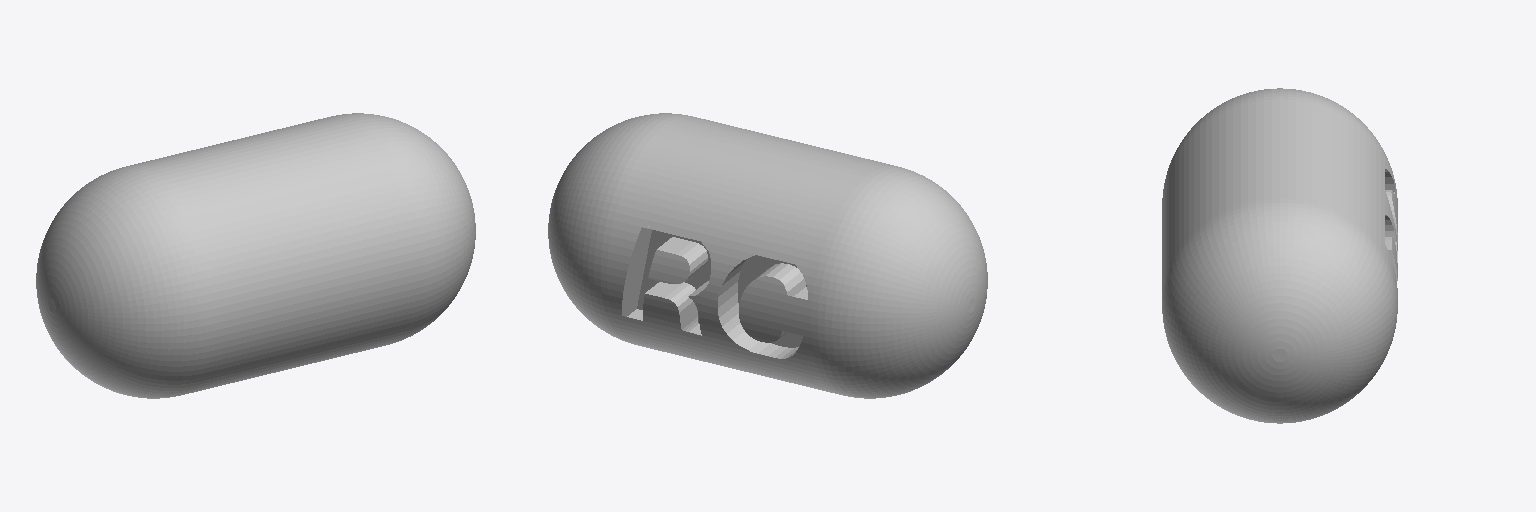
Rendered from tictac.obj.
The picture shows the model from 3 angles: view 1: azimuth 30°, elevation 25°; view 2: azimuth 150°, elevation 25°; view 3: azimuth 270°, elevation 25°; orthographic projection.
Visible parts, largest first — view 1: Mesh1 Model; view 2: Mesh1 Model; view 3: Mesh1 Model.
Boxes of the visible parts, <box> form: Mesh1 Model: <box>36,113,475,398</box>; Mesh1 Model: <box>548,113,987,398</box>; Mesh1 Model: <box>1162,88,1397,423</box>.
Size of the model in its own units: 200 by 100 by 100.